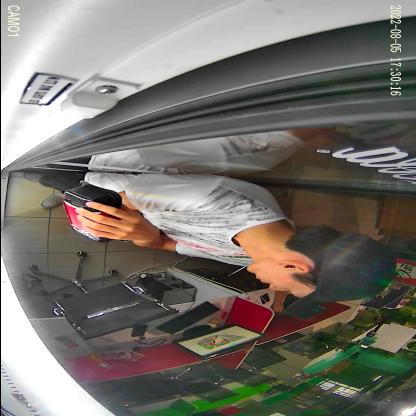red: (61, 180, 121, 242)
